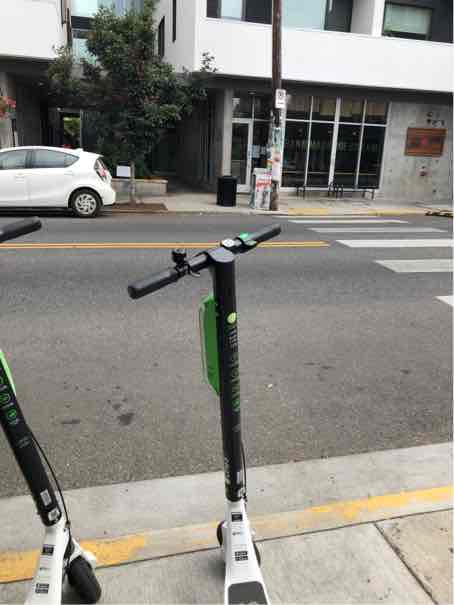scooter: (123, 210, 359, 603)
